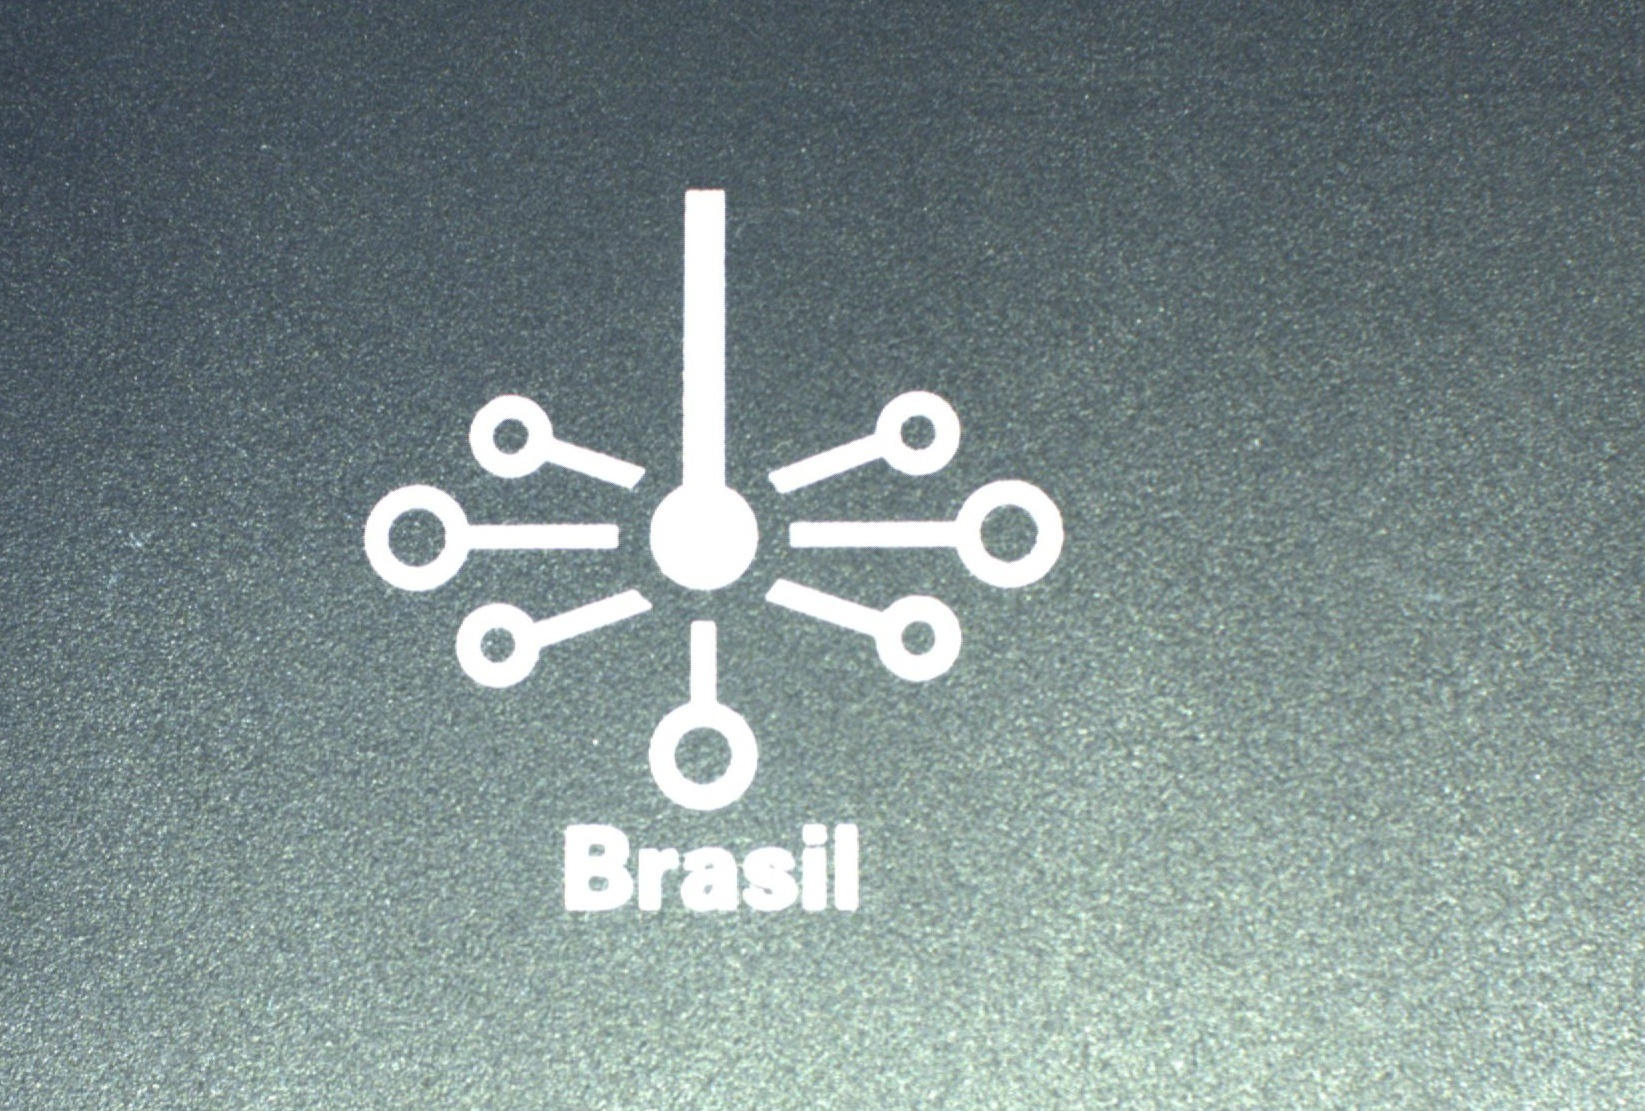BO_Brsail: (316, 177, 1083, 926)
